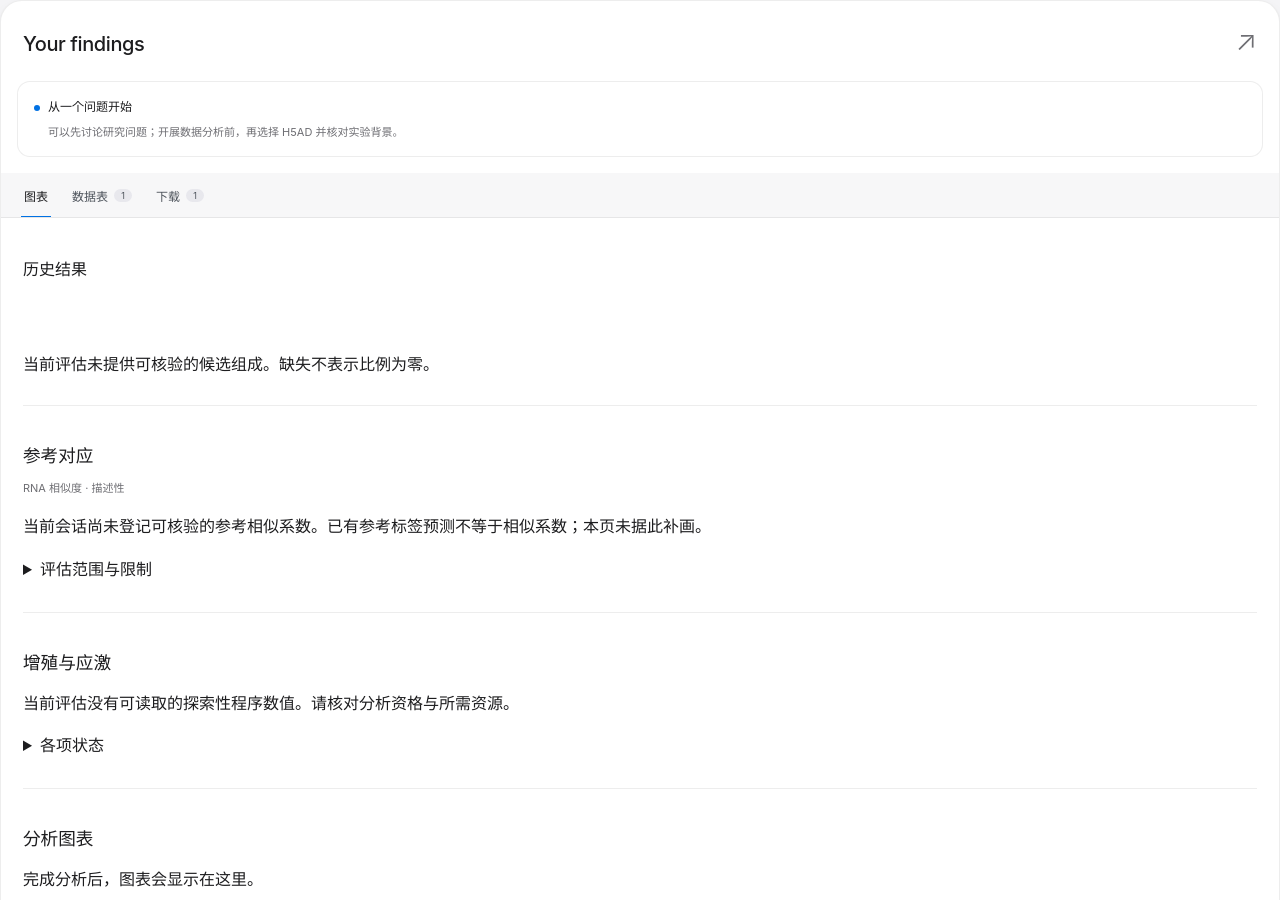
it: ResultsPane › renders exact signed and unsigned integer display strings without rounding
Click the tab "数据表 1": point(102, 195) x1=69 y1=173 x2=135 y2=217
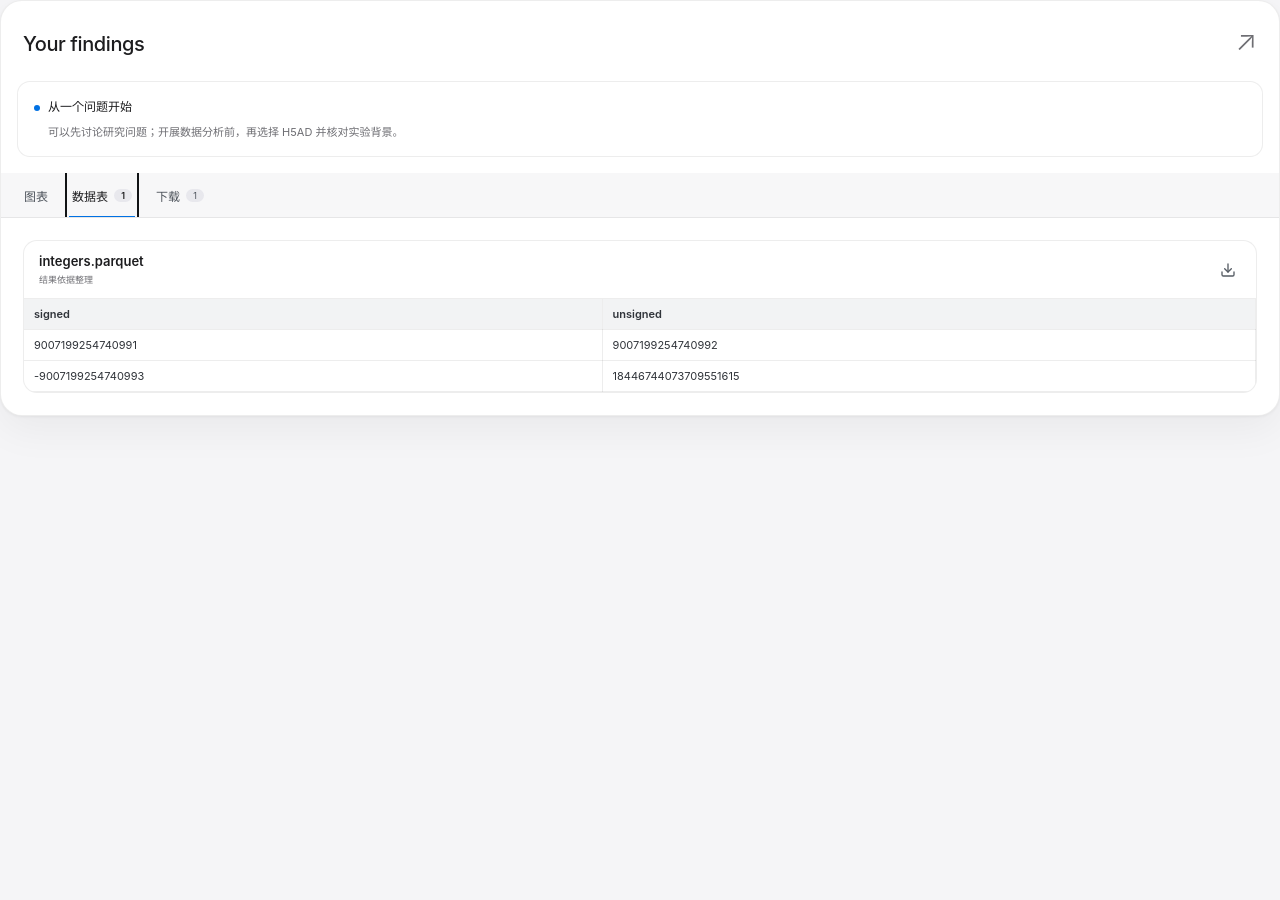
expect the cell "9007199254740991" is shown: met, box x1=24 y1=330 x2=602 y2=361
expect the cell "9007199254740992" is shown: met, box x1=602 y1=330 x2=1256 y2=361
expect the cell "-9007199254740993" is shown: met, box x1=24 y1=361 x2=602 y2=392
